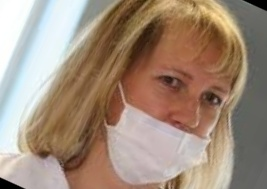mask_weared_incorrect: (112, 7, 236, 187)
